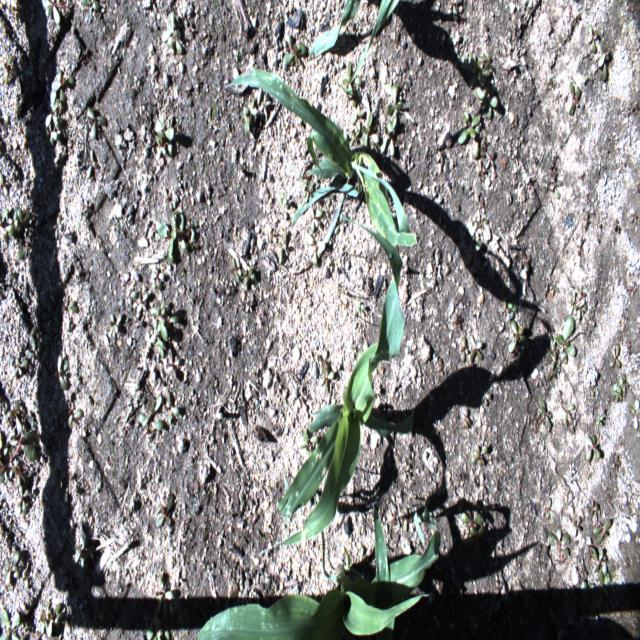crop: (267, 218, 416, 553), (210, 70, 418, 250), (197, 502, 446, 640), (356, 0, 398, 74), (308, 0, 359, 59)
weed: (1, 420, 38, 480), (458, 503, 487, 563), (157, 212, 187, 266), (547, 524, 575, 566), (461, 53, 493, 88), (280, 28, 307, 69), (556, 317, 578, 362), (578, 582, 597, 633), (162, 10, 182, 58), (338, 59, 363, 97), (72, 536, 91, 585), (475, 83, 499, 121), (379, 113, 398, 160), (51, 70, 75, 107), (152, 582, 178, 616), (150, 296, 170, 340), (456, 110, 481, 145), (535, 393, 554, 439), (154, 114, 175, 155), (41, 1, 73, 27), (240, 98, 261, 136), (139, 392, 161, 428), (52, 349, 70, 391), (297, 426, 320, 458), (155, 493, 175, 529), (0, 609, 23, 639), (593, 515, 616, 545), (42, 295, 62, 329), (1, 553, 22, 585), (465, 239, 488, 268), (361, 110, 379, 147), (6, 399, 23, 438), (17, 231, 39, 261), (85, 107, 106, 138), (48, 602, 66, 638), (44, 93, 61, 131), (23, 334, 42, 367), (583, 432, 603, 463), (166, 388, 180, 432), (306, 233, 324, 267), (598, 43, 613, 83), (79, 0, 105, 23), (385, 82, 404, 113), (508, 321, 528, 350), (273, 229, 290, 263), (45, 128, 72, 149), (610, 371, 627, 404), (551, 340, 568, 373), (568, 79, 582, 118), (36, 345, 50, 383), (561, 399, 575, 437), (145, 620, 170, 640), (63, 300, 79, 331), (469, 332, 484, 365), (469, 442, 488, 468), (597, 564, 611, 599), (319, 366, 334, 398), (350, 102, 366, 132), (608, 341, 624, 371), (590, 549, 610, 573), (188, 216, 201, 252), (10, 354, 29, 378), (17, 207, 32, 237), (66, 405, 84, 430), (16, 484, 30, 516), (108, 311, 125, 337), (548, 168, 562, 199), (167, 348, 180, 381), (308, 207, 324, 233), (575, 295, 588, 326), (87, 147, 99, 180), (152, 332, 166, 360), (628, 399, 639, 433), (155, 134, 167, 164), (585, 498, 600, 522), (261, 94, 272, 126), (471, 127, 481, 162), (459, 330, 469, 365), (4, 58, 16, 86), (132, 291, 148, 312), (572, 515, 586, 539), (6, 206, 16, 238), (242, 266, 258, 286), (10, 465, 26, 485), (151, 267, 164, 291), (478, 158, 491, 182), (520, 248, 531, 276), (38, 605, 48, 635), (567, 288, 578, 315), (544, 496, 555, 523), (587, 23, 597, 52), (475, 214, 488, 236), (230, 256, 240, 284), (611, 451, 622, 476), (335, 208, 345, 235), (507, 300, 522, 318), (478, 388, 492, 407), (463, 405, 472, 434), (54, 215, 64, 241), (448, 0, 461, 20), (547, 356, 557, 382), (162, 184, 172, 210), (315, 352, 330, 369), (0, 169, 9, 197), (277, 194, 290, 211), (494, 578, 504, 600), (325, 198, 334, 222), (580, 69, 592, 87), (454, 310, 465, 329), (0, 109, 8, 135), (151, 417, 164, 433), (125, 290, 137, 306), (629, 209, 638, 230), (351, 128, 361, 146), (630, 96, 640, 114), (626, 283, 637, 299), (1, 207, 8, 232), (577, 236, 584, 261), (356, 302, 366, 319), (594, 412, 604, 428), (169, 312, 180, 326), (613, 217, 621, 236), (503, 271, 510, 292), (424, 168, 431, 189), (566, 3, 572, 27), (438, 149, 446, 167), (95, 479, 102, 494), (584, 210, 589, 230)
